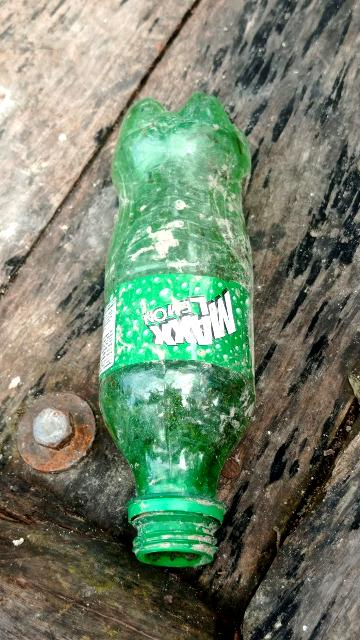bottle: (90, 76, 263, 572)
